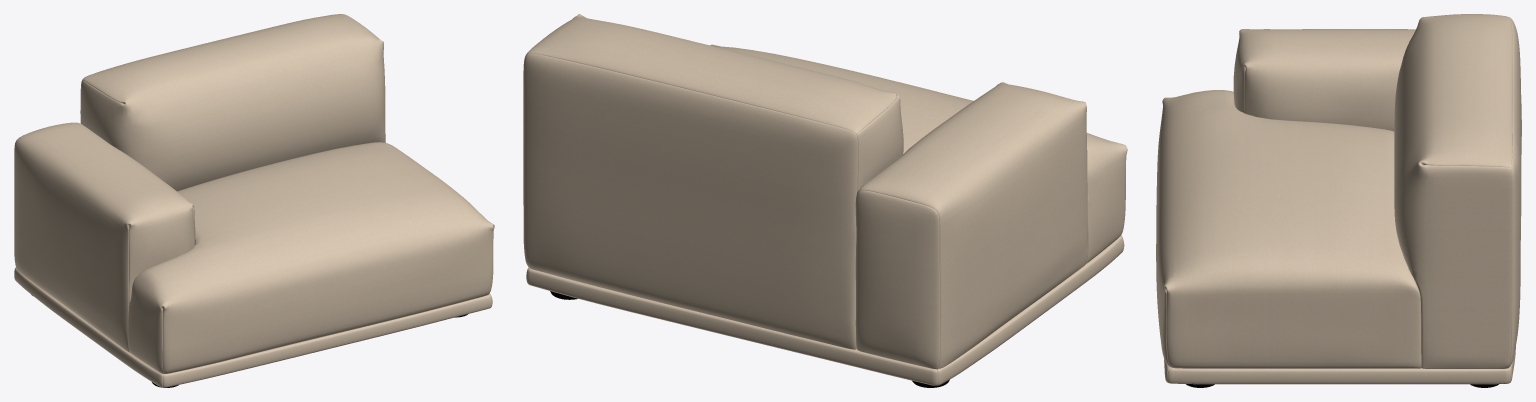
The model's file is DIVINA 106.glb.
3 views of the same model, side by side, from view 1: azimuth 30°, elevation 25°; view 2: azimuth 150°, elevation 25°; view 3: azimuth 270°, elevation 25° (orthographic). The views are drawn at different scales.
Parts seen in each view (by area): view 1: Upholstery; view 2: Upholstery; view 3: Upholstery.
Part boxes in pixels (left/top/right/bottom): Upholstery: left=14, top=14, right=494, bottom=387; Upholstery: left=523, top=14, right=1127, bottom=385; Upholstery: left=1156, top=14, right=1521, bottom=384.
Size of the model in its own units: 1.2 by 0.697 by 0.9539.
Materials: 2 (2 with a texture image).
